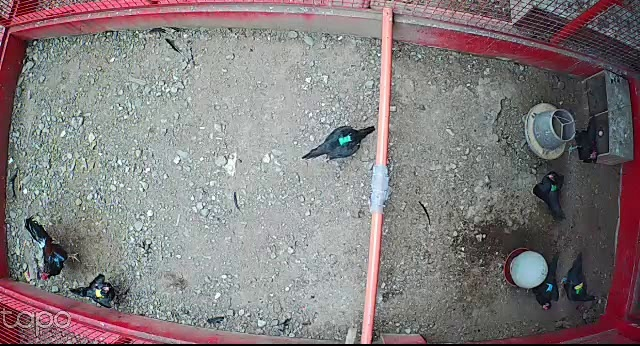Chicken: (298, 123, 375, 165), (562, 251, 604, 307), (529, 254, 565, 317), (568, 112, 603, 170), (531, 170, 569, 221), (70, 272, 120, 310)
Drinker: (504, 247, 549, 291)
Feeder: (525, 101, 576, 161)
Rooster: (27, 207, 84, 285)
Saddle_Color_Blue: (546, 284, 555, 293)
Saddle_Color_Yellow: (95, 288, 105, 297)
Saddle_Color_YellowGreen: (575, 282, 586, 294)
